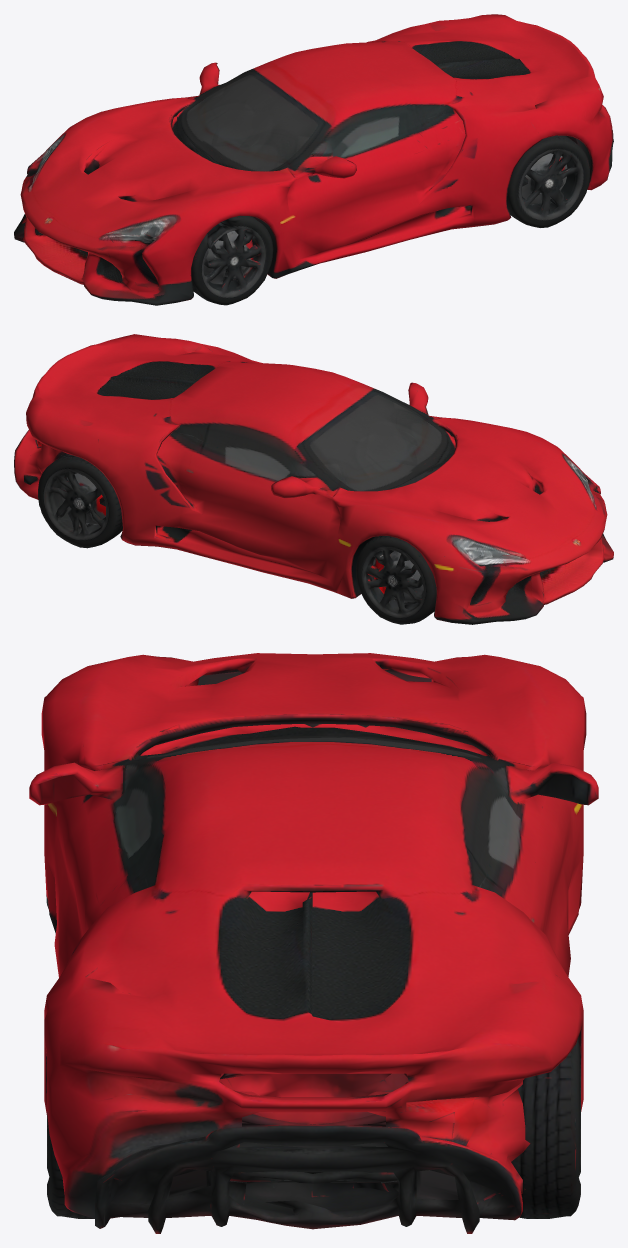
File: gen4_car.glb
3 views of the same model, one above another, from view 1: azimuth 30°, elevation 25°; view 2: azimuth 150°, elevation 25°; view 3: azimuth 270°, elevation 25° (orthographic). The views are drawn at different scales.
Parts seen in each view (by area): view 1: mesh_node; view 2: mesh_node; view 3: mesh_node.
Part boxes in pixels (x1,y1,x2,y2): mesh_node: [14, 14, 613, 305]; mesh_node: [14, 334, 613, 624]; mesh_node: [29, 653, 598, 1233].
Bounding box in the file's own units: 1.91 × 0.4971 × 0.8806.
Materials: 1 (1 with a texture image).
